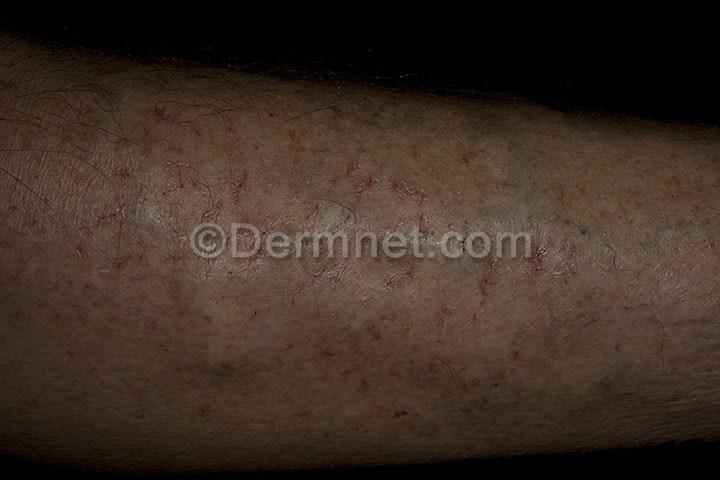Eczema: (69, 256, 377, 449), (381, 271, 536, 466), (286, 95, 517, 222), (110, 79, 265, 221), (539, 169, 629, 322)
